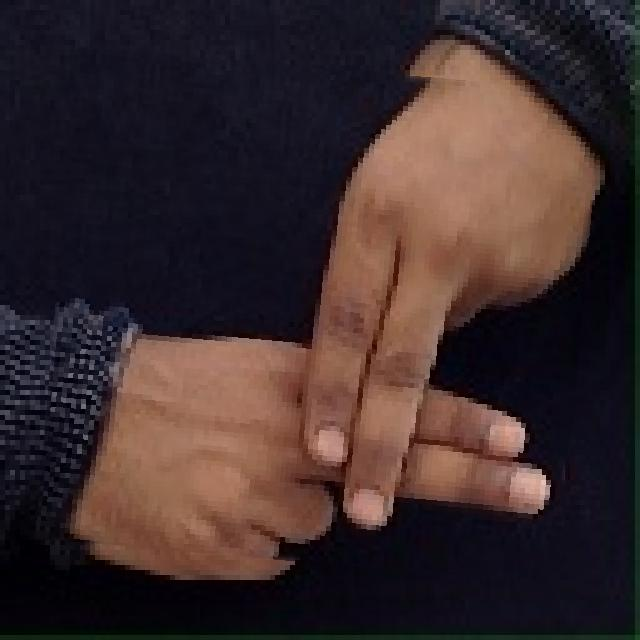F: (46, 58, 592, 574)
